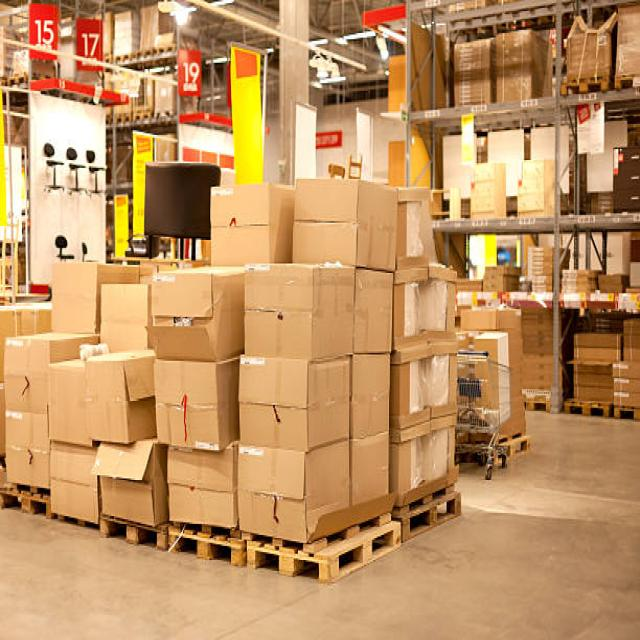Wooden-Pallets: (242, 506, 399, 596), (401, 479, 467, 550), (164, 522, 246, 570), (90, 511, 163, 559), (556, 391, 616, 428)
